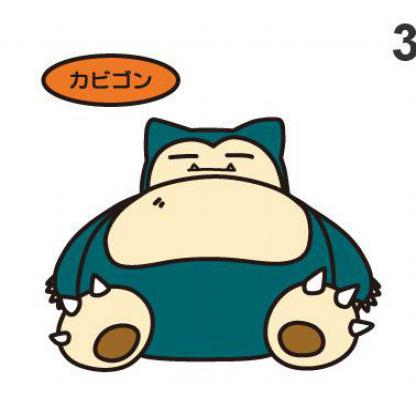Snorlax: (1, 9, 416, 416)
